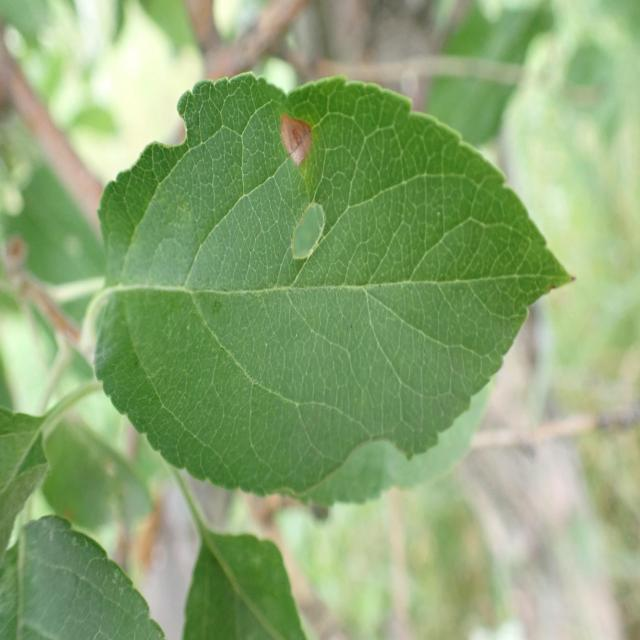Black Rot: (275, 190, 339, 284), (254, 103, 321, 174)
